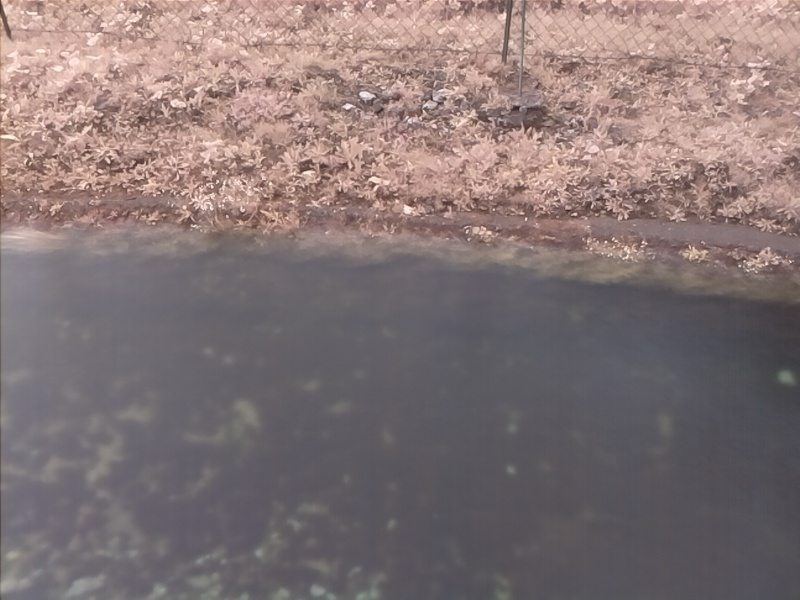Water: (1, 217, 797, 600)
